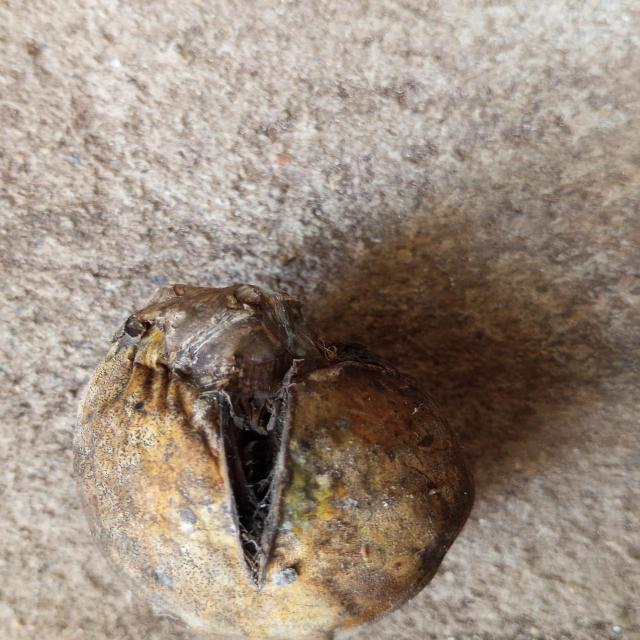damaged: (77, 283, 478, 640)
